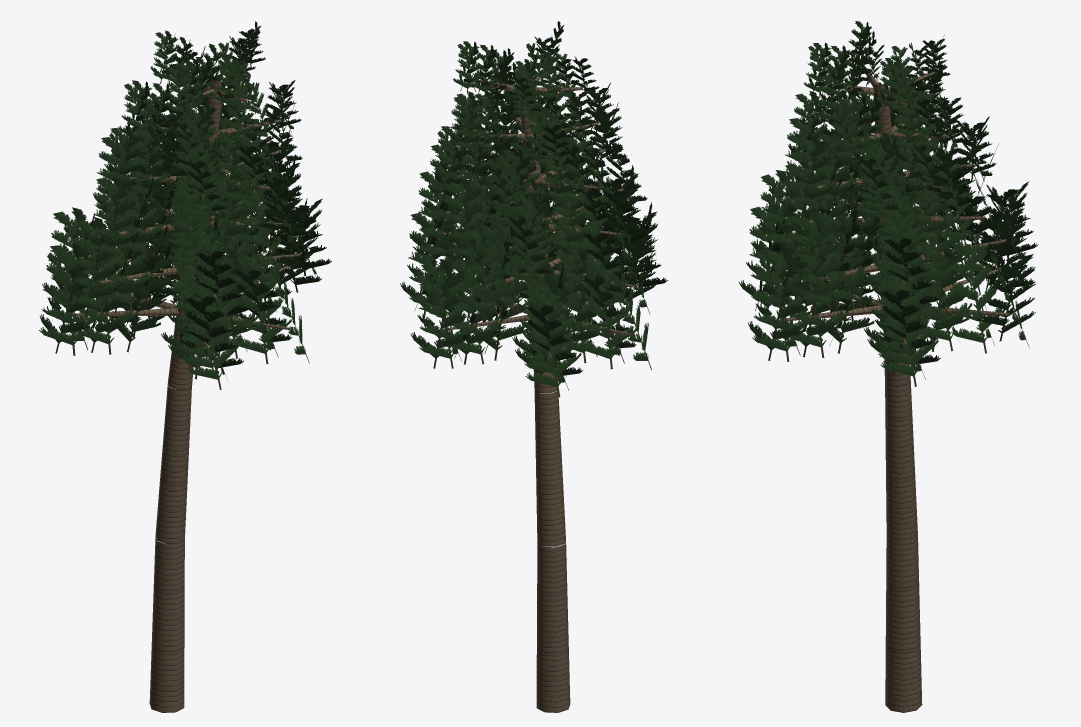
Rendered from SM_Art_Veg_Pine_0.gltf.
The picture shows the model from 3 angles, left to right: view 1: azimuth 30°, elevation 25°; view 2: azimuth 150°, elevation 25°; view 3: azimuth 270°, elevation 25°; orthographic projection. The views are drawn at different scales.
Visible parts, largest first — view 1: SM_Art_Veg_Pine_0; view 2: SM_Art_Veg_Pine_0; view 3: SM_Art_Veg_Pine_0.
Part boxes in pixels (box(x1,y1,x2,y2)): SM_Art_Veg_Pine_0: box(39, 21, 331, 712); SM_Art_Veg_Pine_0: box(400, 21, 667, 712); SM_Art_Veg_Pine_0: box(738, 21, 1038, 712).
Bounding box in the file's own units: 6.37 × 13.1 × 6.12.
Materials: 2 (2 with a texture image).
